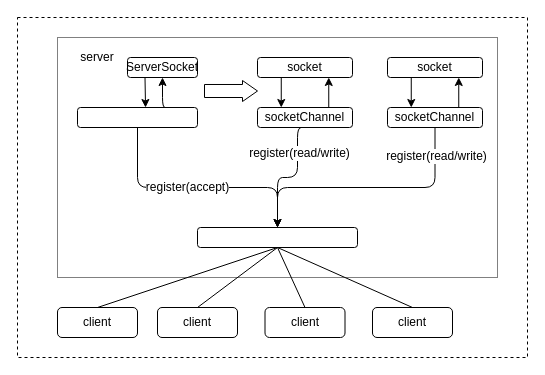
This 545x375 diagram has some shape labels left out. Here are the shapes that lost their labels. From the top down, the centre of each, then its label:
At point 231,91: "new".
At point 137,117: "ServerSocketChannel".
At point 277,237: "selector".
